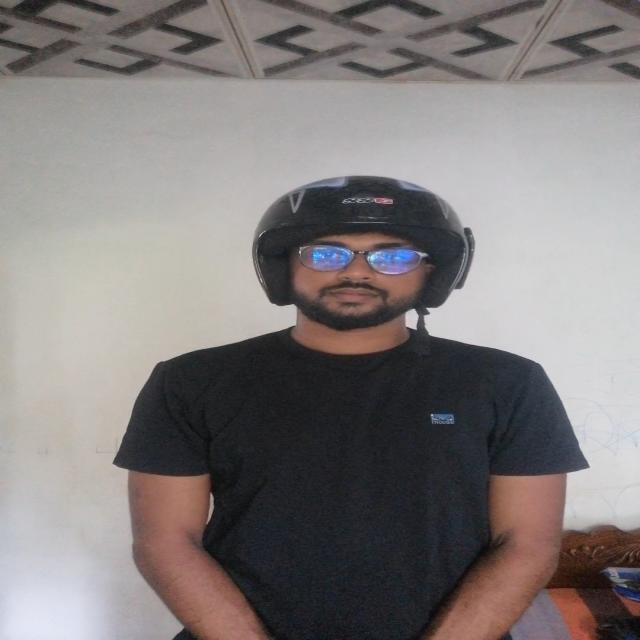Helmet_Wearer: (215, 165, 502, 389)
Person: (113, 173, 566, 640)
